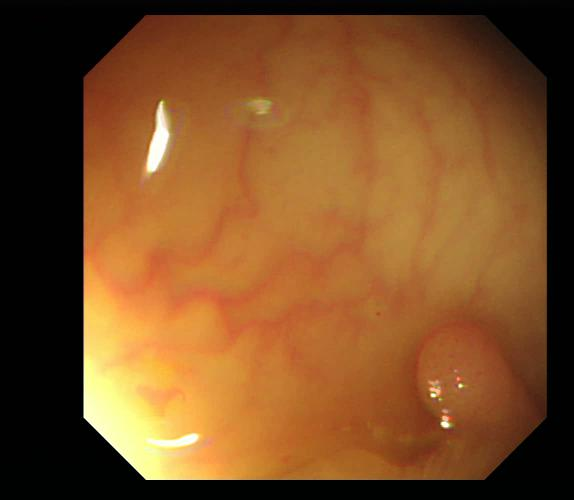polyp: (416, 327, 539, 440)
